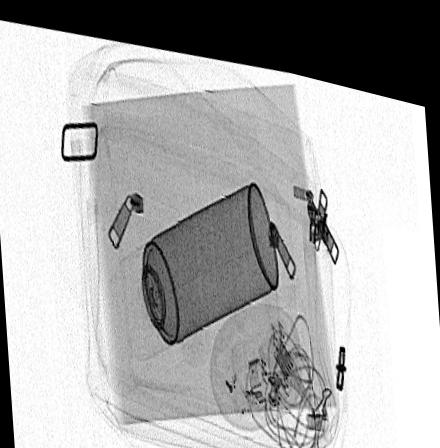Sprayer: (118, 167, 278, 354)
